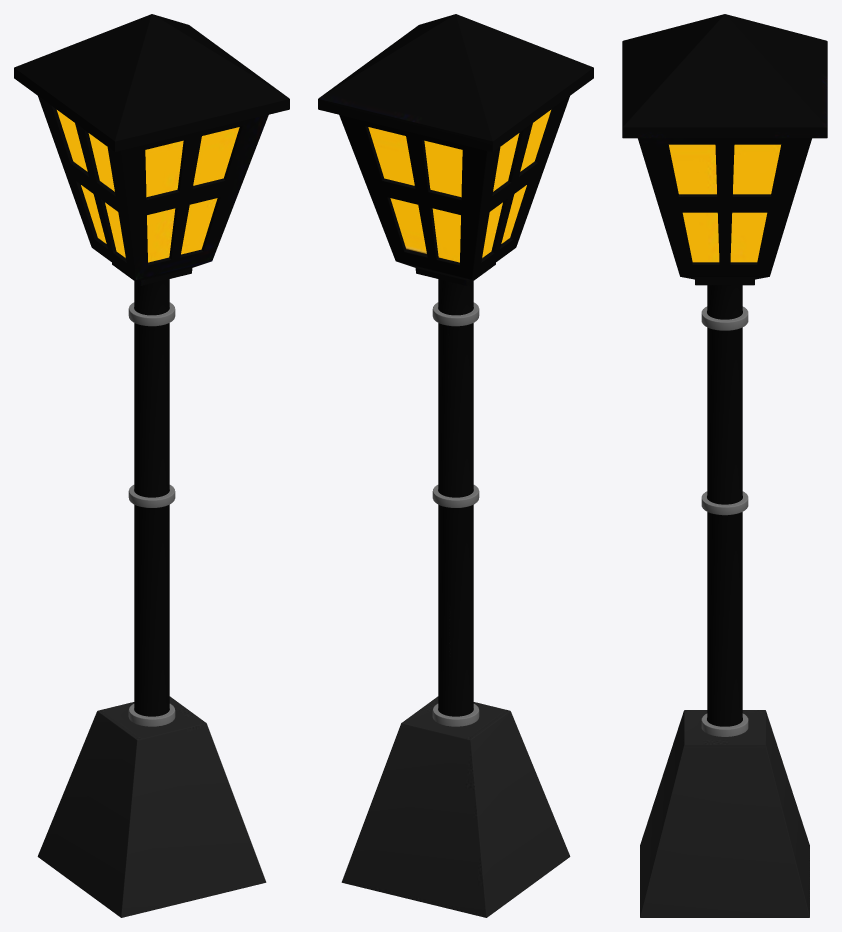
The model's file is lamppost.glb.
The picture shows the model from 3 angles, left to right: view 1: azimuth 30°, elevation 25°; view 2: azimuth 150°, elevation 25°; view 3: azimuth 270°, elevation 25°; orthographic projection.
Parts seen in each view (by area): view 1: __lamp_tmp; view 2: __lamp_tmp; view 3: __lamp_tmp.
Boxes of the visible parts, x1,y1,x2,y2 form: __lamp_tmp: (14, 14, 289, 917); __lamp_tmp: (318, 14, 593, 917); __lamp_tmp: (622, 14, 827, 917).
Size of the model in its own units: 0.8193 by 3.83 by 0.8193.
Materials: 1 (1 with a texture image).
